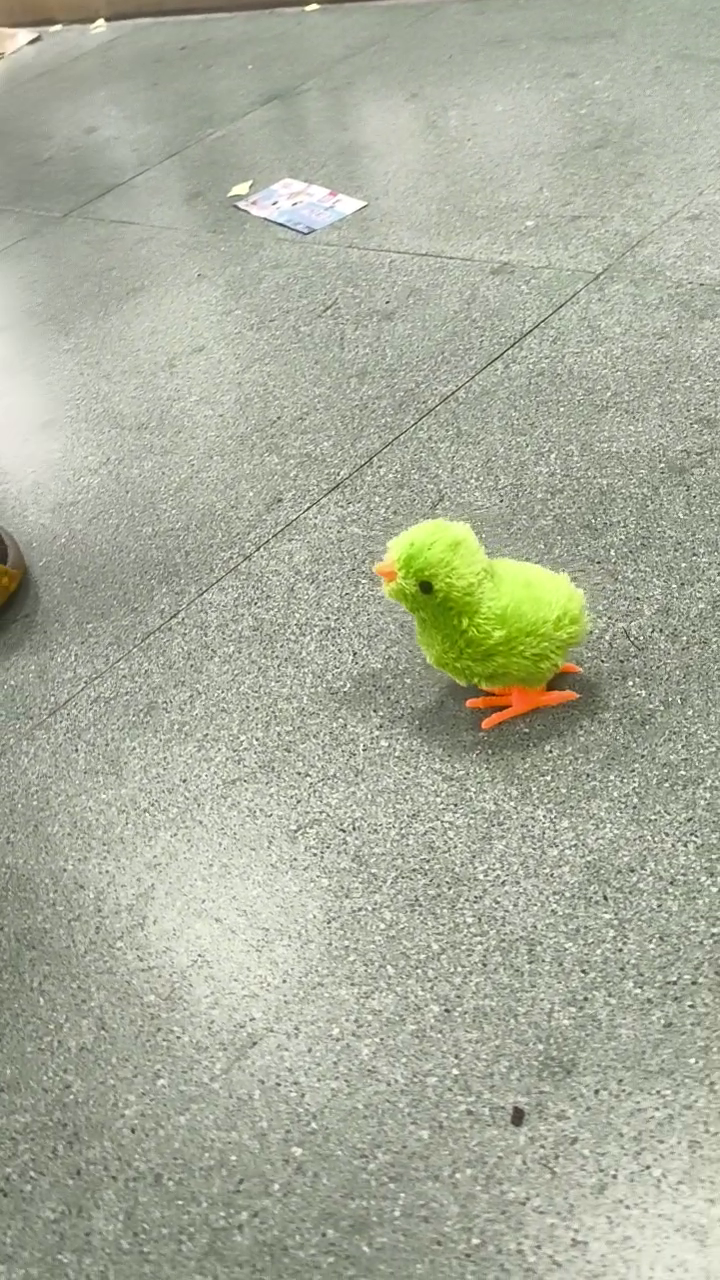green chicken: (367, 515, 593, 734)
